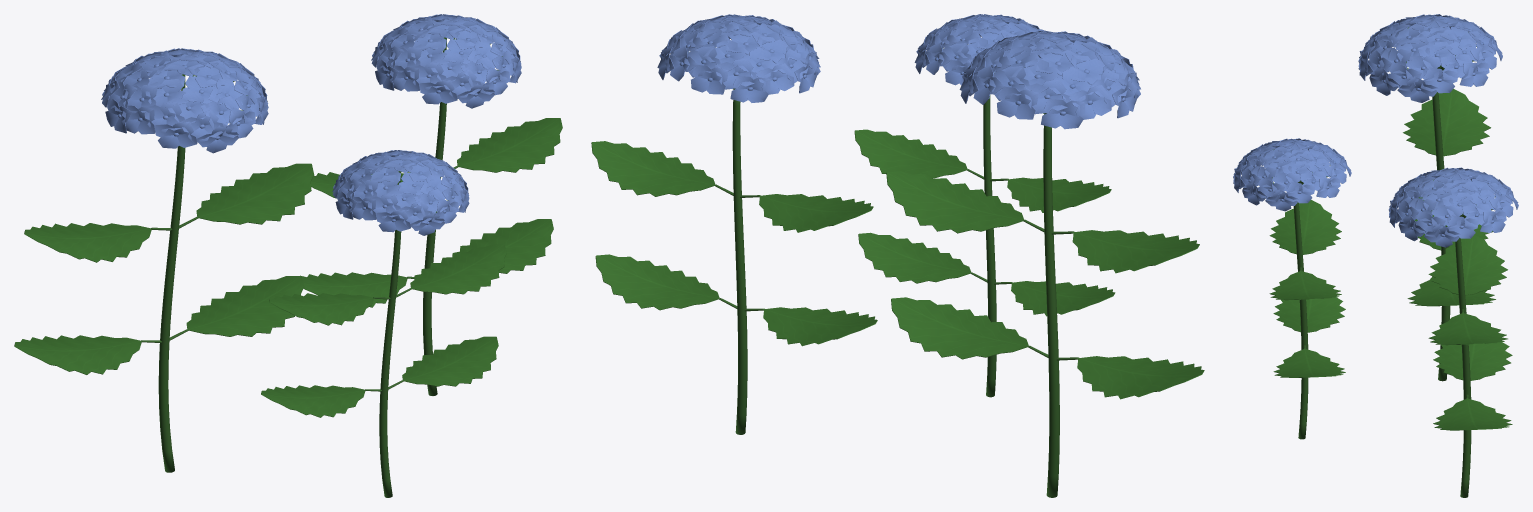
Rendered from Hydrangea_Blue_Cluster.fbx.
3 views of the same model, side by side, from view 1: azimuth 30°, elevation 25°; view 2: azimuth 150°, elevation 25°; view 3: azimuth 270°, elevation 25° (orthographic). The views are drawn at different scales.
Visible parts, largest first — view 1: Hydrangea_Blue_Cluster; view 2: Hydrangea_Blue_Cluster; view 3: Hydrangea_Blue_Cluster.
Part boxes in pixels (x1,y1,x2,y2): Hydrangea_Blue_Cluster: (14, 14, 562, 497); Hydrangea_Blue_Cluster: (591, 14, 1204, 497); Hydrangea_Blue_Cluster: (1233, 14, 1518, 497).
Bounding box in the file's own units: 0.65 × 0.46 × 0.3333.
3 materials, 3 textured.
